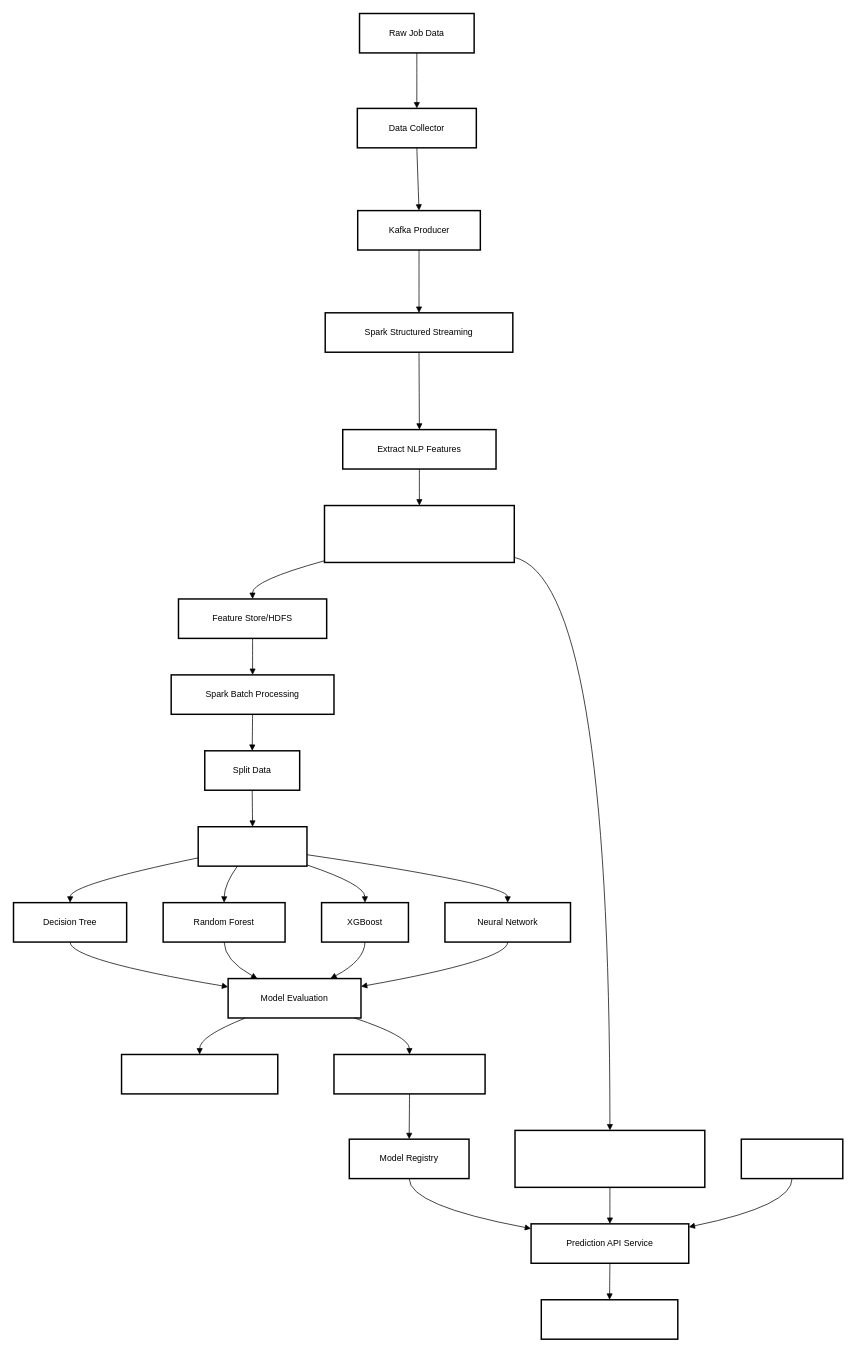
This 856x1352 diagram has some shape labels left out. The shapes that lost their labels are listed below. From the top down, each one's box as (x1, y1, x2, y2) in pixels, then its label:
(323, 504, 515, 563): Encode Categorical Features
(197, 826, 307, 867): Train Models
(120, 1053, 278, 1094): Log Metrics to WandB
(333, 1053, 485, 1094): Save Models to HDFS
(514, 1129, 705, 1188): Kafka Topic: processed_jobs
(740, 1138, 843, 1179): User Query
(540, 1299, 678, 1340): Salary Predictions
